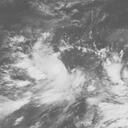cyclone: (28, 43, 84, 106)
